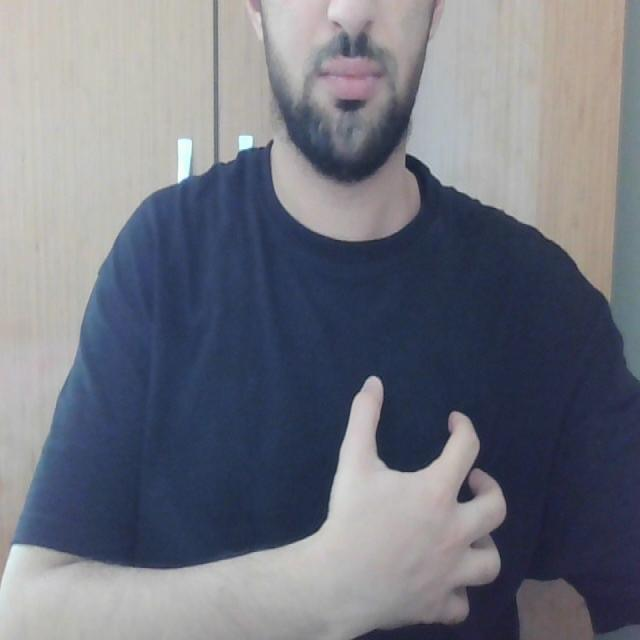Anne: (317, 374, 533, 632)
